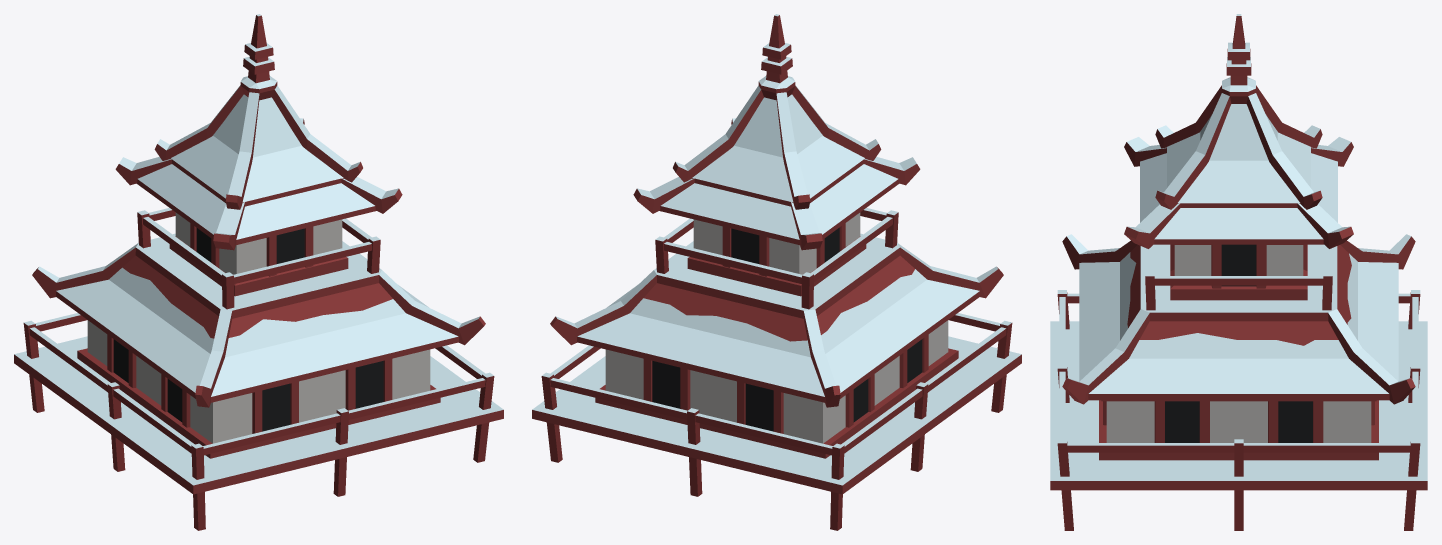
The model's file is SM_Bld_Samurai_Temple_01_Snow.fbx.
The picture shows the model from 3 angles, left to right: view 1: azimuth 30°, elevation 25°; view 2: azimuth 150°, elevation 25°; view 3: azimuth 270°, elevation 25°; orthographic projection. The views are drawn at different scales.
Parts seen in each view (by area): view 1: SM_Bld_Samurai_Temple_01_Snow; view 2: SM_Bld_Samurai_Temple_01_Snow; view 3: SM_Bld_Samurai_Temple_01_Snow.
Part boxes in pixels (<box>): SM_Bld_Samurai_Temple_01_Snow: <box>14,14,503,530</box>; SM_Bld_Samurai_Temple_01_Snow: <box>532,14,1021,530</box>; SM_Bld_Samurai_Temple_01_Snow: <box>1050,14,1427,530</box>.
Bounding box in the file's own units: 160 × 207 × 160.
Materials: 1 (1 with a texture image).
